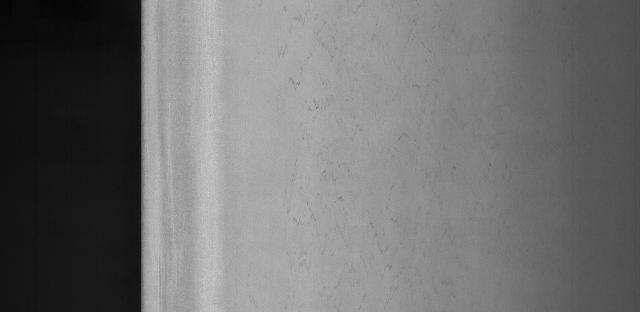silk_spot: (272, 0, 445, 259)
